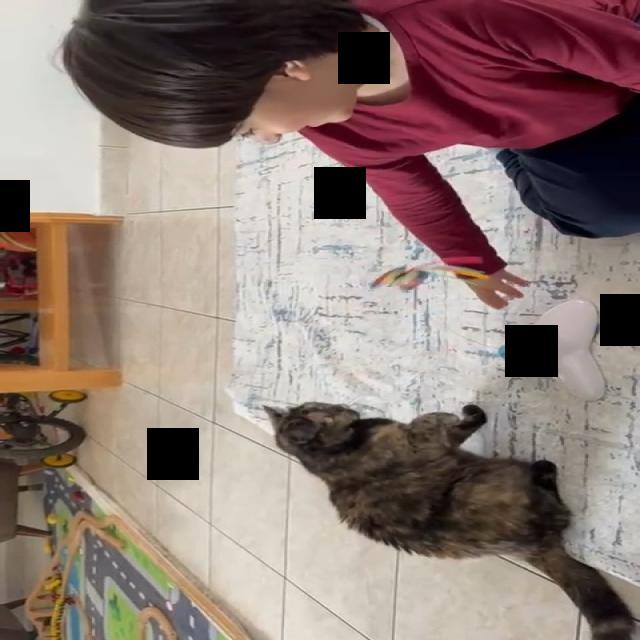authorized: (261, 400, 639, 639)
